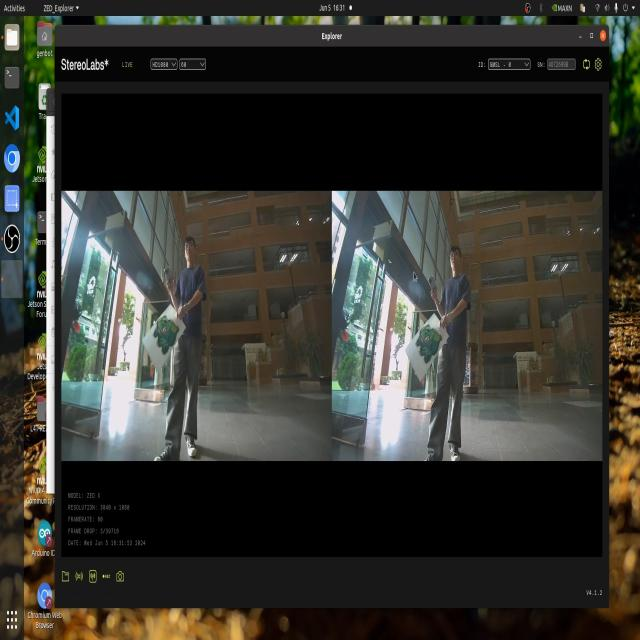green: (414, 320, 446, 362), (153, 310, 179, 355)
